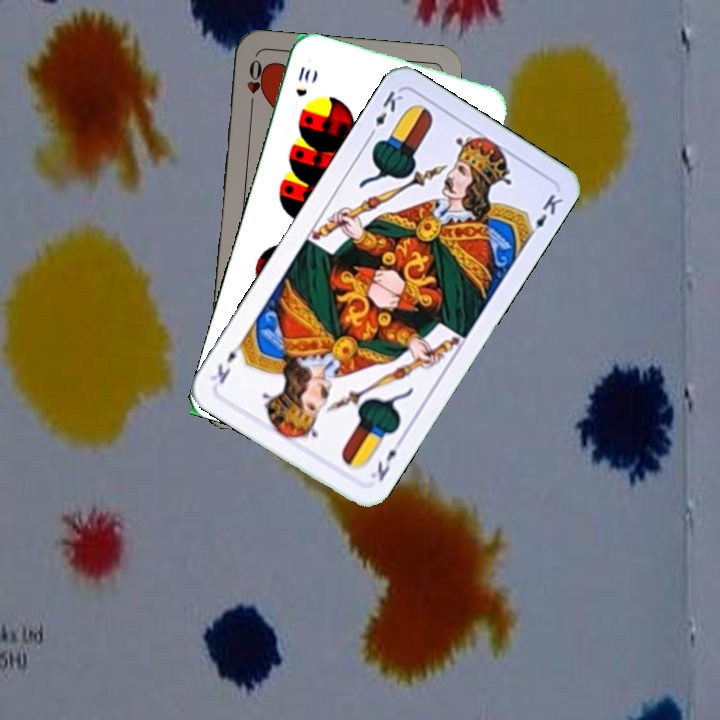EK: (364, 86, 406, 141), (366, 434, 406, 484)
HO: (242, 55, 267, 113)
S10: (291, 62, 314, 100)
